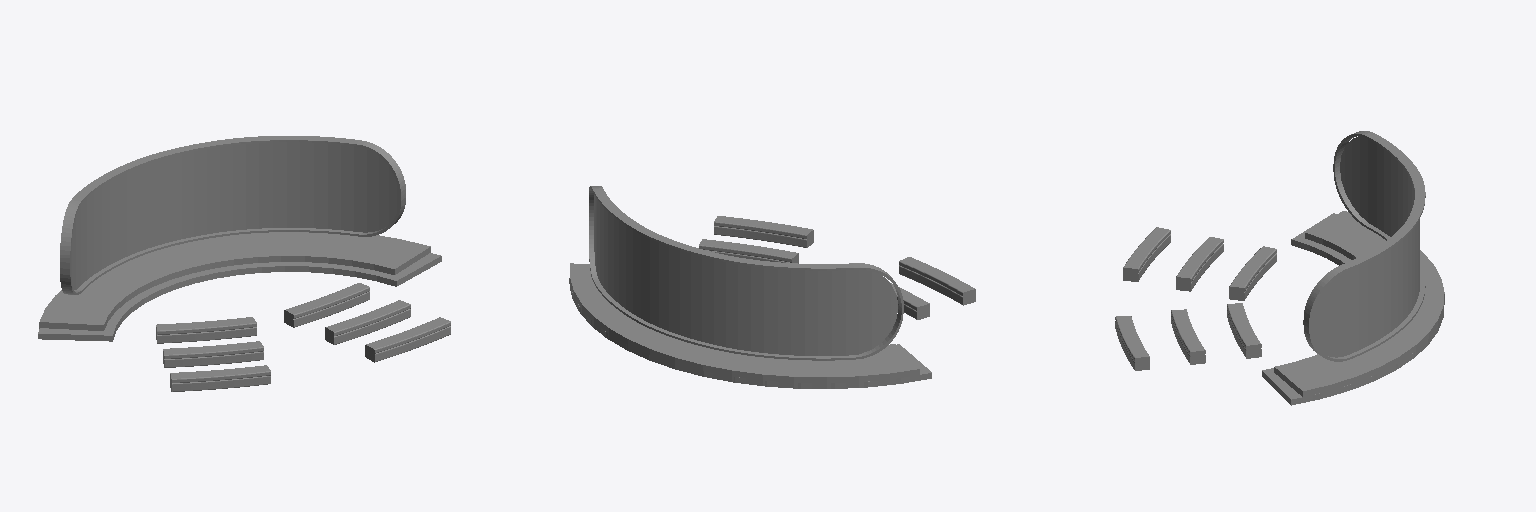
Rendered from Stage.obj.
3 views of the same model, side by side, from view 1: azimuth 30°, elevation 25°; view 2: azimuth 150°, elevation 25°; view 3: azimuth 270°, elevation 25° (orthographic).
Visible parts, largest first — view 1: Extrude_2_3, Object001, Object002; view 2: Object001, Extrude_2_3, Object002; view 3: Extrude_2_3, Object001, Object002.
Part boxes in pixels (bbox=[...]): Extrude_2_3: bbox=[38, 136, 450, 391]; Object001: bbox=[71, 142, 398, 289]; Object002: bbox=[156, 283, 450, 382]; Object001: bbox=[594, 195, 897, 355]; Extrude_2_3: bbox=[569, 186, 975, 388]; Object002: bbox=[699, 216, 975, 311]; Extrude_2_3: bbox=[1115, 131, 1444, 405]; Object001: bbox=[1311, 136, 1419, 357]; Object002: bbox=[1115, 227, 1276, 362].
Bounding box in the file's own units: 454 × 128 × 338.